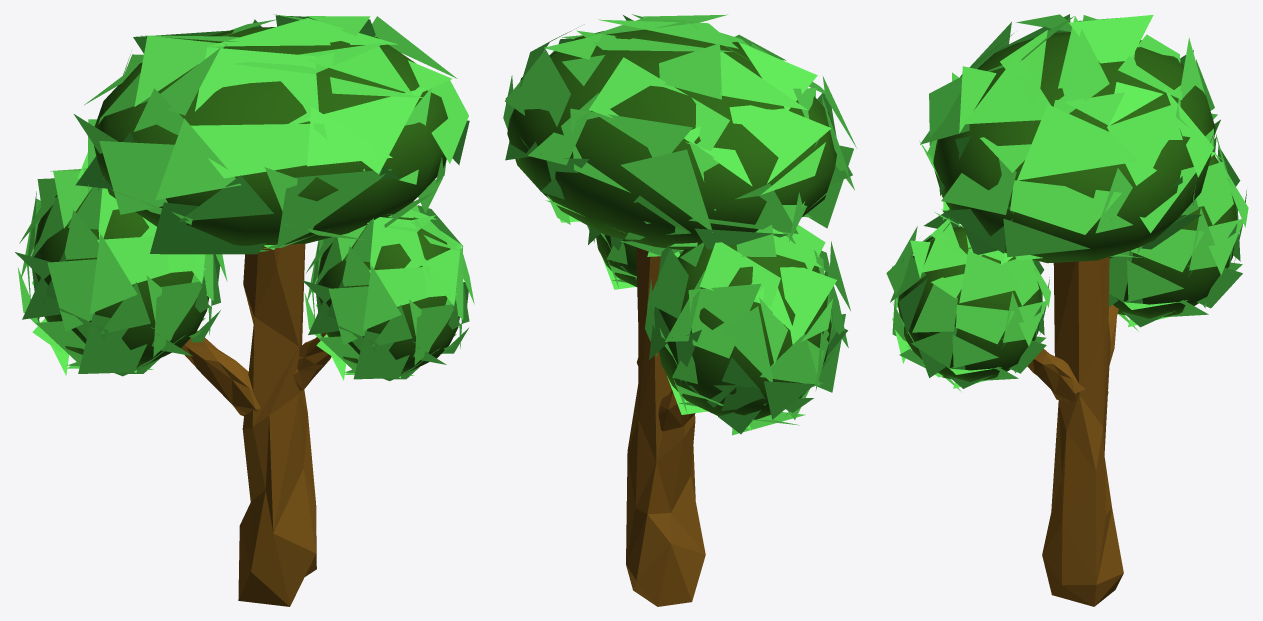
The model's file is ArbolDef2.fbx.
3 renders of one model, left to right at view 1: azimuth 30°, elevation 25°; view 2: azimuth 150°, elevation 25°; view 3: azimuth 270°, elevation 25°, orthographic. The views are drawn at different scales.
Parts seen in each view (by area): view 1: Tree2DEF; view 2: Tree2DEF; view 3: Tree2DEF.
Part boxes in pixels (left/top/right/bottom): Tree2DEF: left=15, top=14, right=474, bottom=606; Tree2DEF: left=503, top=14, right=856, bottom=606; Tree2DEF: left=886, top=14, right=1248, bottom=606.
Bounding box in the file's own units: 259 × 390 × 233.
